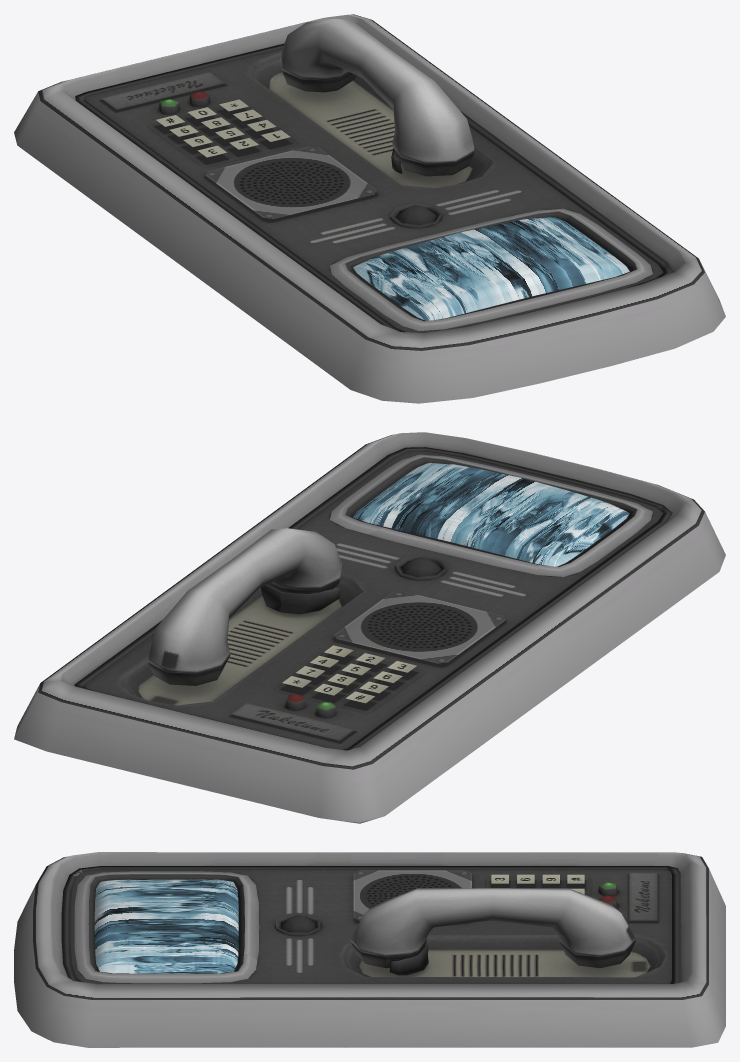
File: nt_phone_wall_LOD2.obj
The picture shows the model from 3 angles, top to bottom: view 1: azimuth 30°, elevation 25°; view 2: azimuth 150°, elevation 25°; view 3: azimuth 270°, elevation 25°; orthographic projection. The views are drawn at different scales.
Visible parts, largest first — view 1: mtl_nt_phone_wall, mtl_nt_2020_screen_animated_01; view 2: mtl_nt_phone_wall, mtl_nt_2020_screen_animated_01; view 3: mtl_nt_phone_wall, mtl_nt_2020_screen_animated_01.
Part boxes in pixels (<box>): mtl_nt_phone_wall: <box>14,14,725,403</box>; mtl_nt_2020_screen_animated_01: <box>353,217,629,320</box>; mtl_nt_phone_wall: <box>14,432,725,823</box>; mtl_nt_2020_screen_animated_01: <box>353,462,629,566</box>; mtl_nt_phone_wall: <box>14,852,725,1047</box>; mtl_nt_2020_screen_animated_01: <box>94,879,238,973</box>.
Size of the model in its own units: 47.94 by 14.45 by 88.44.
